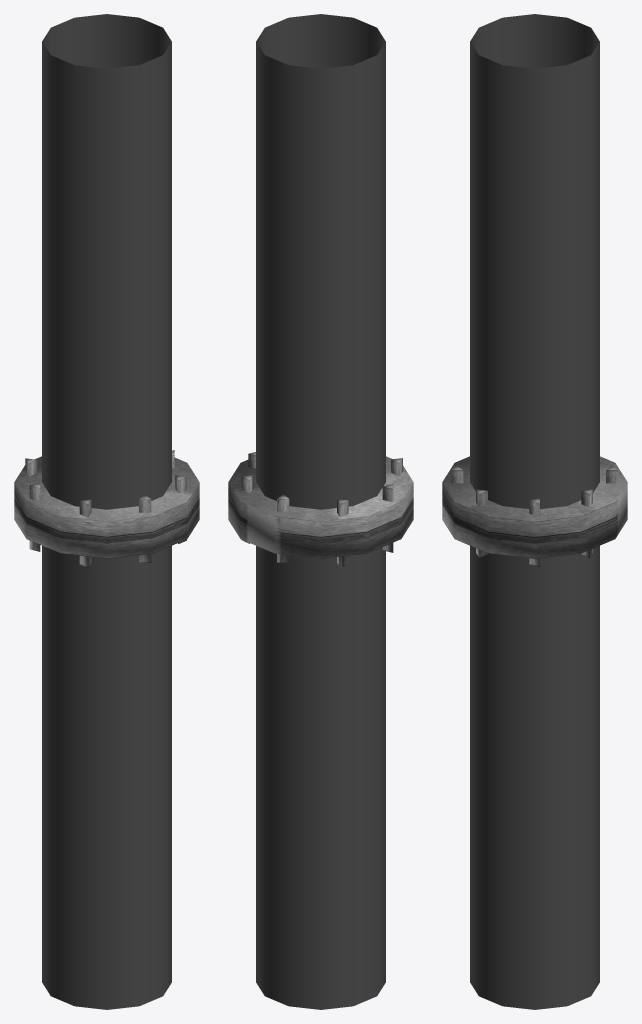
Rendered from Pipe_01.FBX.
3 views of the same model, side by side, from view 1: azimuth 30°, elevation 25°; view 2: azimuth 150°, elevation 25°; view 3: azimuth 270°, elevation 25° (orthographic).
Visible parts, largest first — view 1: Pipe_01; view 2: Pipe_01; view 3: Pipe_01.
Part boxes in pixels (x1,y1,x2,y2): Pipe_01: [14, 14, 199, 1009]; Pipe_01: [228, 14, 413, 1009]; Pipe_01: [442, 14, 627, 1009].
Size of the model in its own units: 0.3208 by 1.79 by 0.3208.
